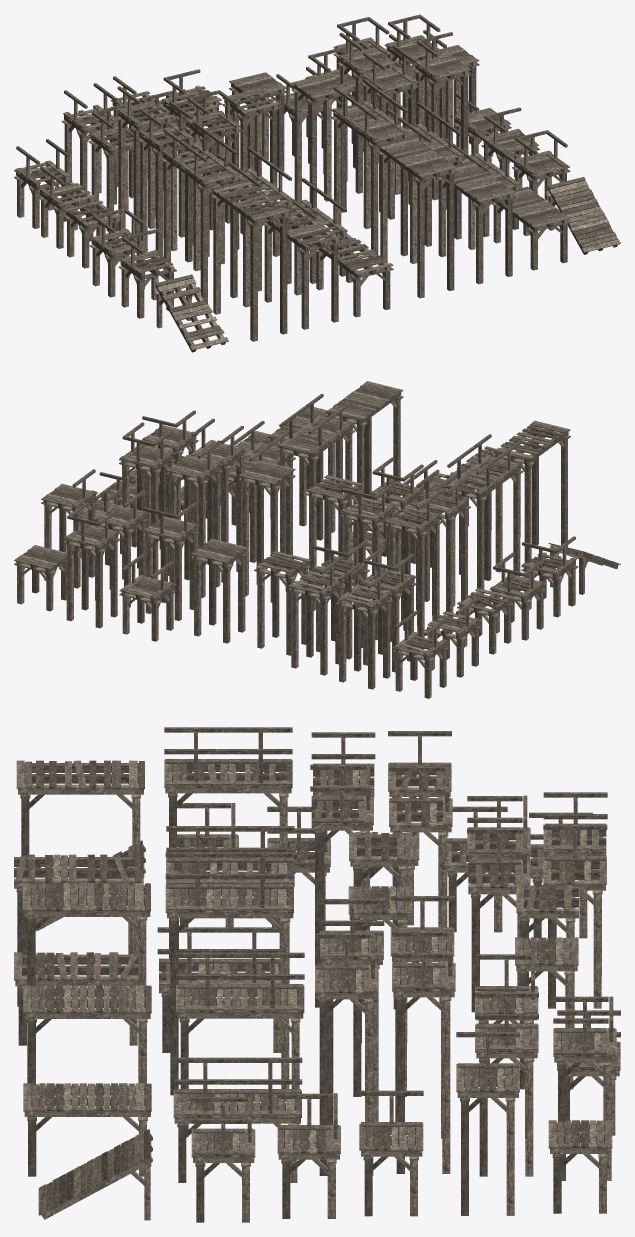
The picture shows the model from 3 angles, top to bottom: view 1: azimuth 30°, elevation 25°; view 2: azimuth 150°, elevation 25°; view 3: azimuth 270°, elevation 25°; orthographic projection. The views are drawn at different scales.
Parts seen in each view (by area): view 1: Wooden_bridge-material (×40); view 2: Wooden_bridge-material (×40); view 3: Wooden_bridge-material (×42).
Part boxes in pixels (x1,y1,x2,y2): Wooden_bridge-material (×40): (14, 14, 620, 352); Wooden_bridge-material (×40): (14, 381, 620, 698); Wooden_bridge-material (×42): (14, 727, 620, 1222).
Bounding box in the file's own units: 13.88 × 4.56 × 11.11.
Materials: 1 (1 with a texture image).
